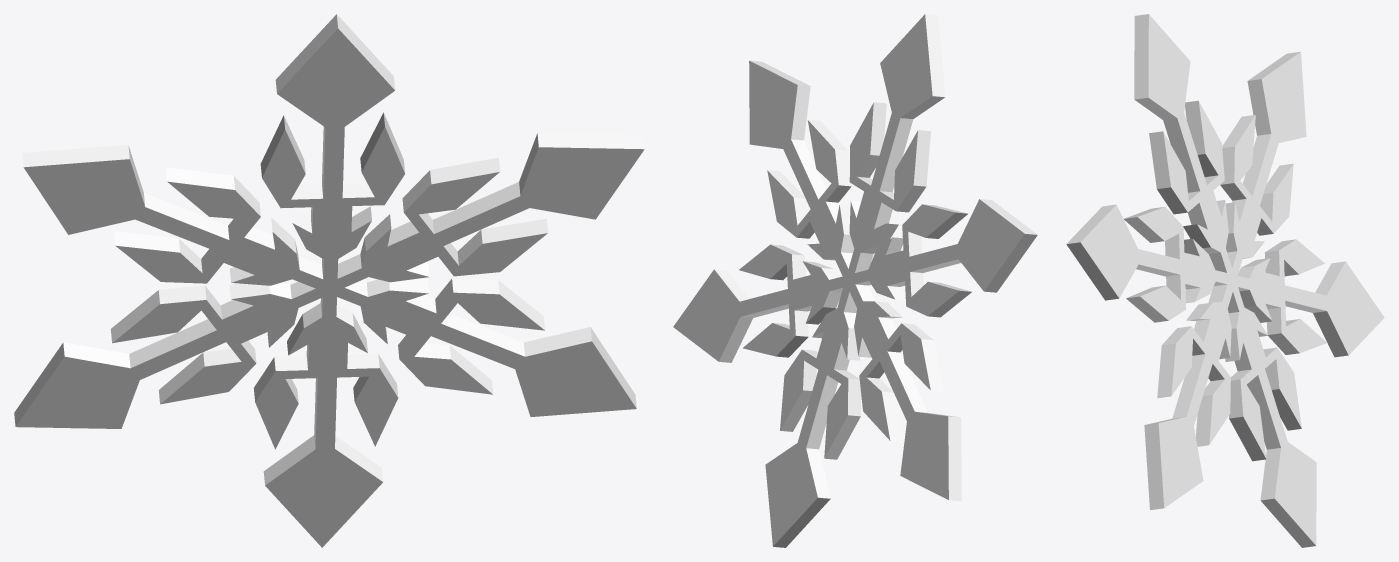
Rendered from NOSE SNOWFLAKE.fbx.
3 views of the same model, side by side, from view 1: azimuth 30°, elevation 25°; view 2: azimuth 150°, elevation 25°; view 3: azimuth 270°, elevation 25° (orthographic). The views are drawn at different scales.
Visible parts, largest first — view 1: NOSE_SNOWFLAKE; view 2: NOSE_SNOWFLAKE; view 3: NOSE_SNOWFLAKE.
Part boxes in pixels (x1,y1,x2,y2): NOSE_SNOWFLAKE: [14, 14, 644, 547]; NOSE_SNOWFLAKE: [673, 14, 1037, 547]; NOSE_SNOWFLAKE: [1066, 14, 1384, 547].
Bounding box in the file's own units: 4.82 × 5.36 × 3.08.
